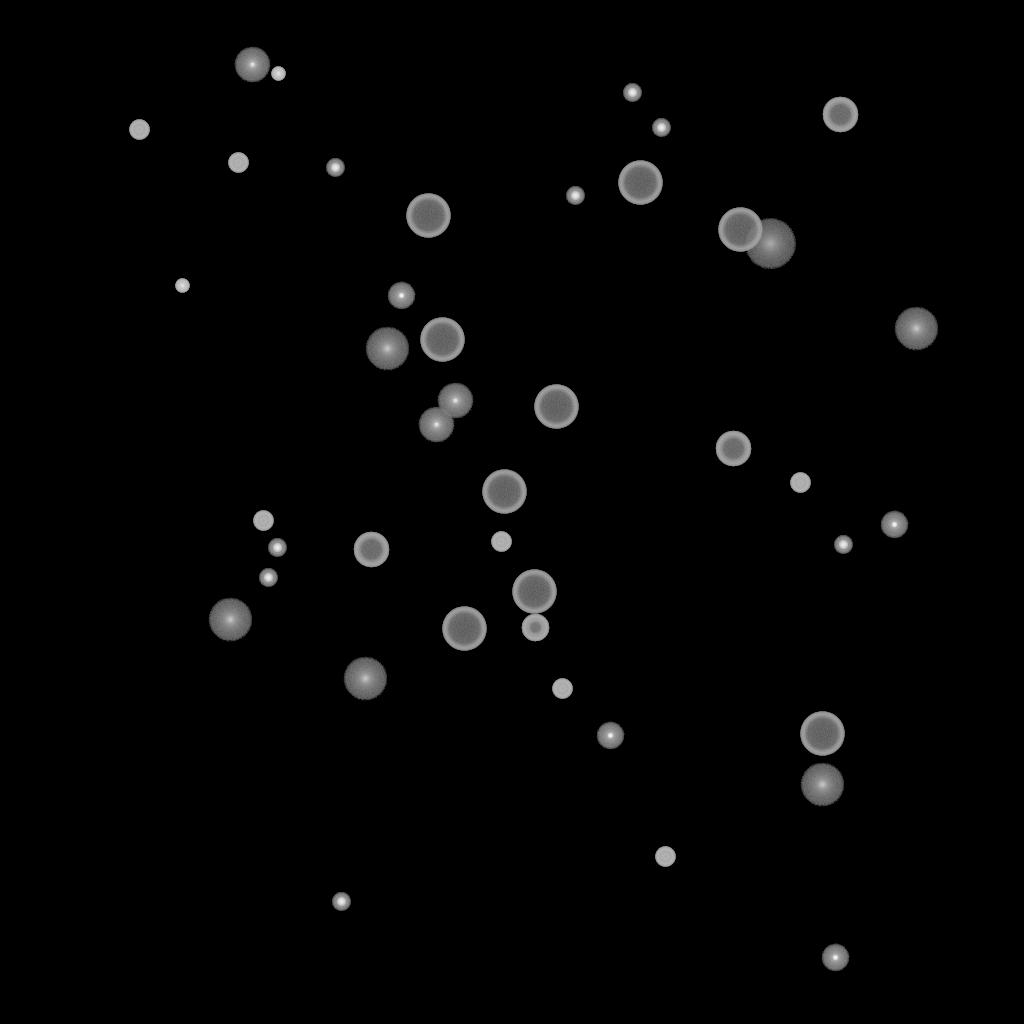depth:-10: (880, 511, 908, 539), (596, 722, 624, 750), (387, 282, 415, 310), (821, 944, 849, 972)
depth:-20: (652, 119, 670, 137), (623, 84, 641, 102), (326, 159, 344, 177), (566, 187, 584, 205), (268, 539, 286, 557), (834, 536, 852, 554), (259, 569, 277, 587), (332, 893, 350, 911)
depth:-30: (175, 279, 189, 293), (271, 67, 285, 81)
depth:-40: (253, 511, 273, 531), (228, 153, 248, 173), (129, 120, 149, 140), (552, 679, 572, 699), (790, 473, 810, 493), (655, 847, 675, 867), (491, 532, 511, 552)
depth:-50: (521, 614, 549, 642)
depth:-60: (822, 97, 858, 133), (715, 431, 751, 467), (353, 532, 389, 568)
depth:-70: (534, 385, 578, 429), (718, 208, 762, 252), (406, 194, 450, 238), (618, 161, 662, 205), (800, 712, 844, 756), (482, 470, 526, 514), (512, 570, 556, 614), (442, 607, 486, 651), (420, 318, 464, 362)
depth:0: (437, 383, 473, 419), (234, 47, 270, 83), (418, 407, 454, 443)
depth:10: (208, 598, 252, 642), (343, 657, 387, 701), (365, 327, 409, 371), (800, 763, 844, 807), (894, 307, 938, 351)
depth:20: (744, 219, 796, 269)
